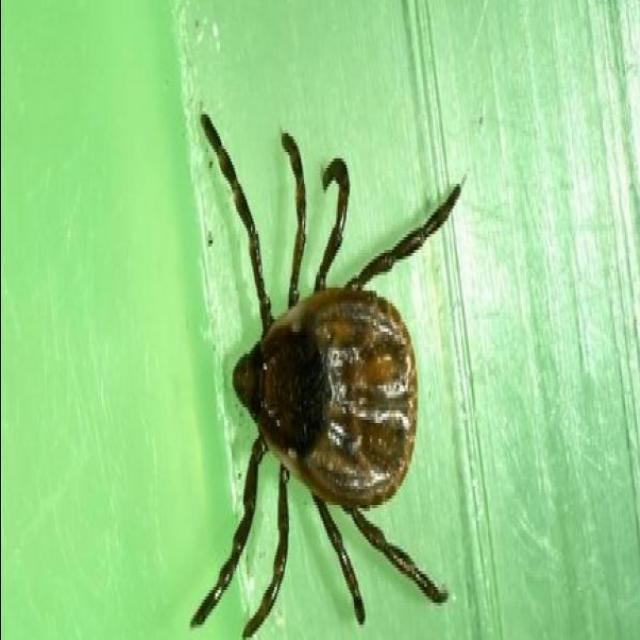Rhipicephalus Sanguineus-F: (188, 111, 460, 640)
